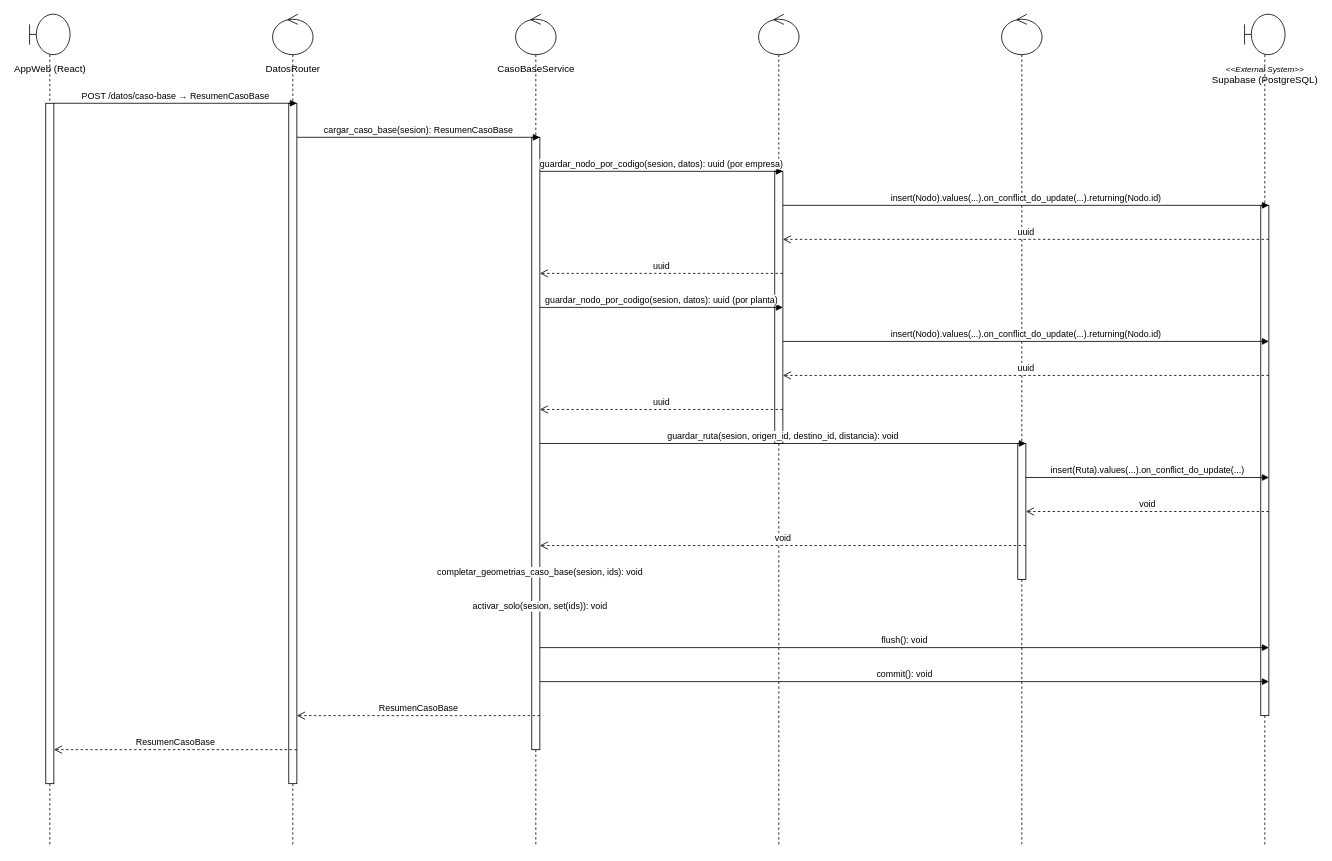
Some shapes in this 1332 by 861 pixel diagram are drawn without their labels. The centre of each missing label's shape, as x and y in pixels:
NodoRepository: pixel 778 430
RutaRepository: pixel 1021 430
